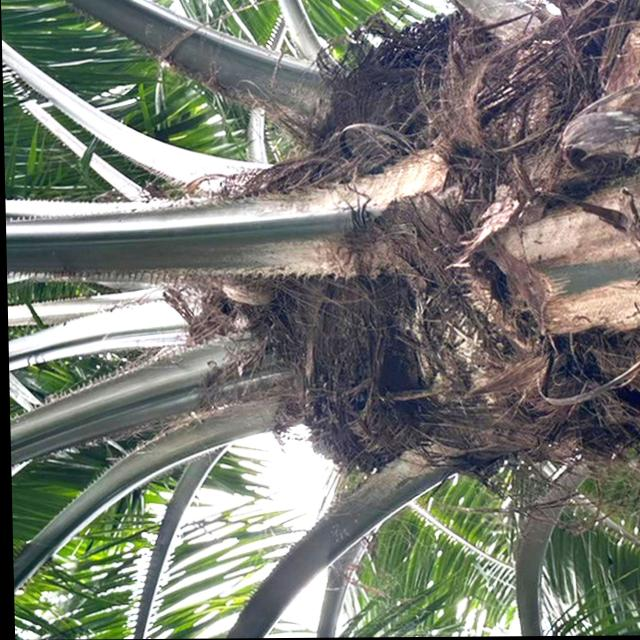unripe: (290, 339, 418, 477)
